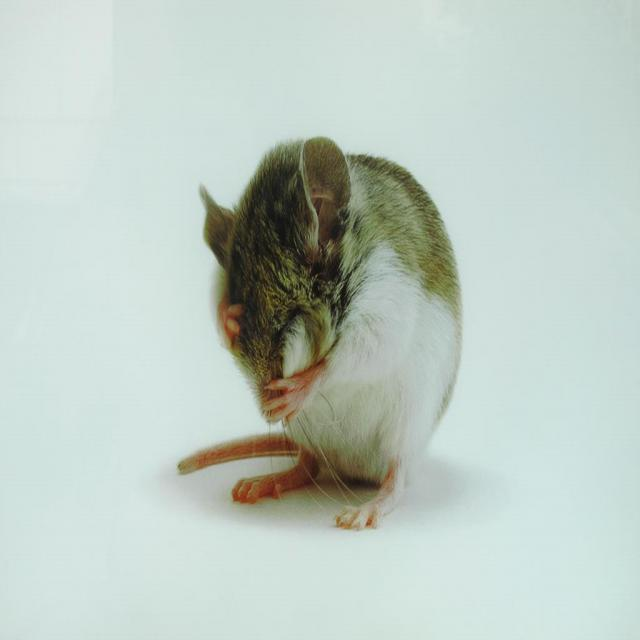rat: (182, 138, 465, 528)
